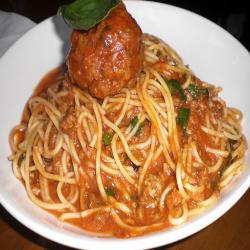bolonese_pasta: (26, 39, 241, 241)
